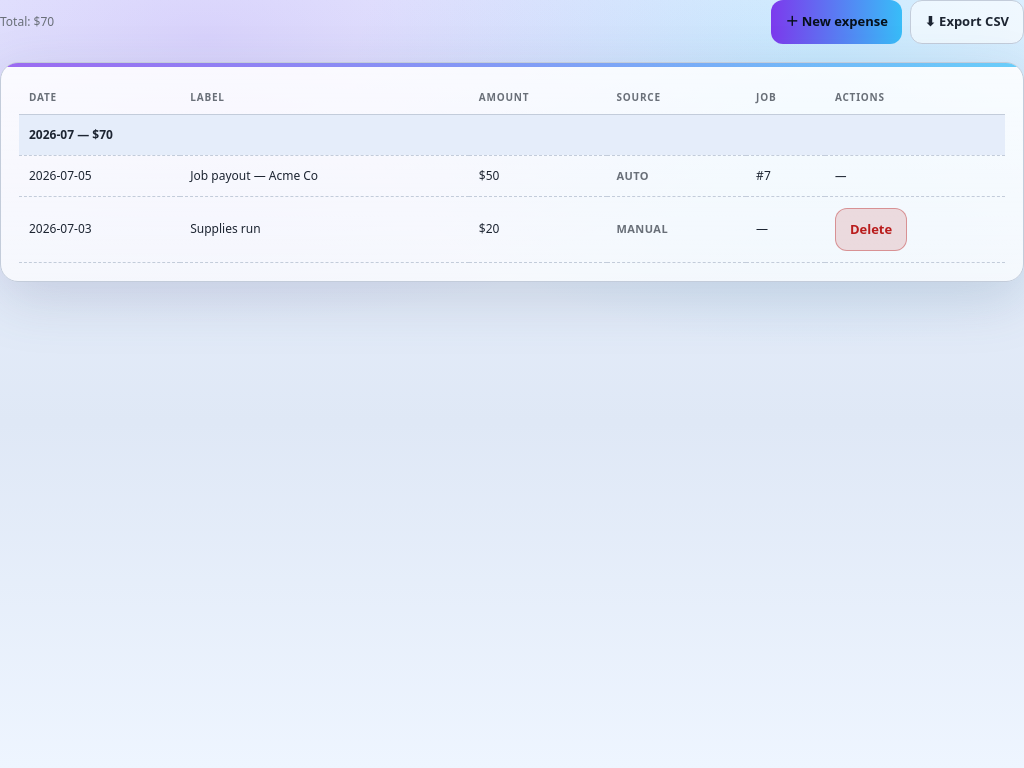
ExpensesSection › submits the add form via the addExpense server action, resets it, and closes the dialog on success
Click the button "＋ New expense" at (837, 22), box [771,0,902,44]
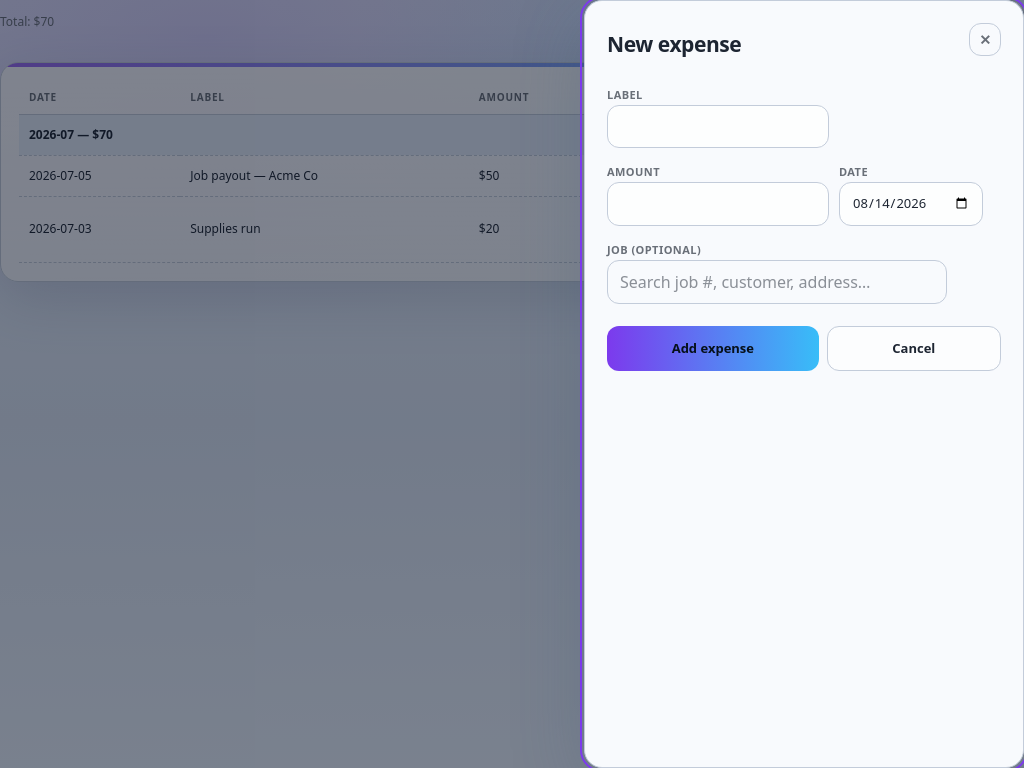
Type "Gas" into the field labelled "Label" at (718, 126), box [607,104,829,148]
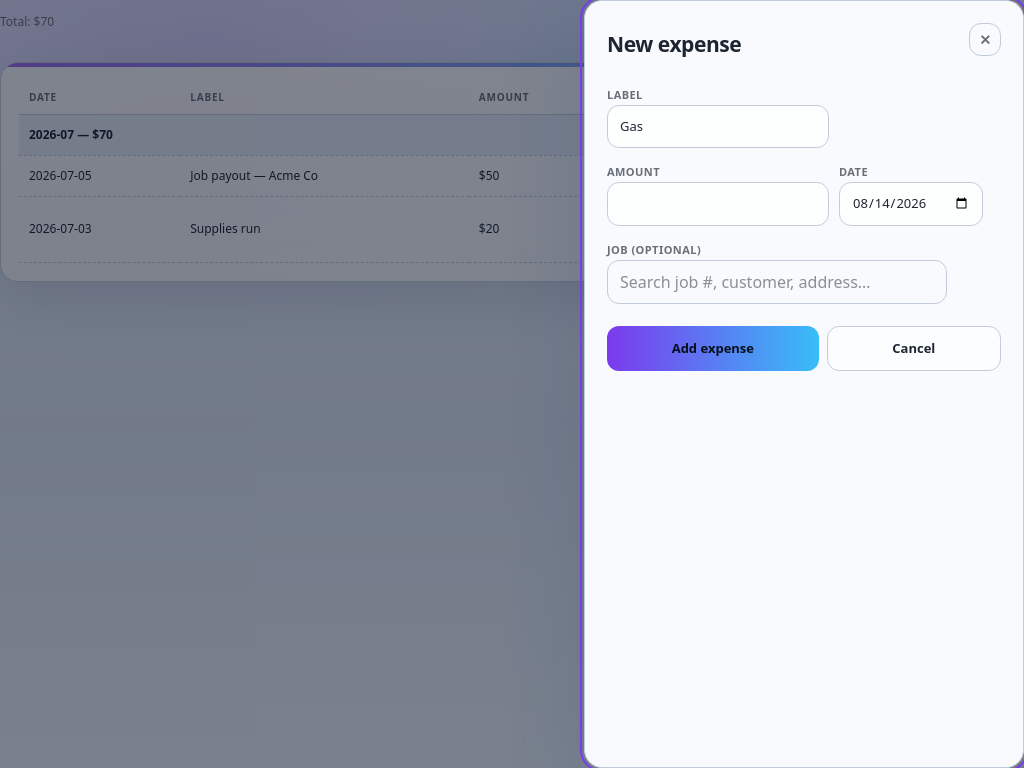
Type "12.50" into the number field labelled "Amount" at (718, 204), box [607,182,829,226]
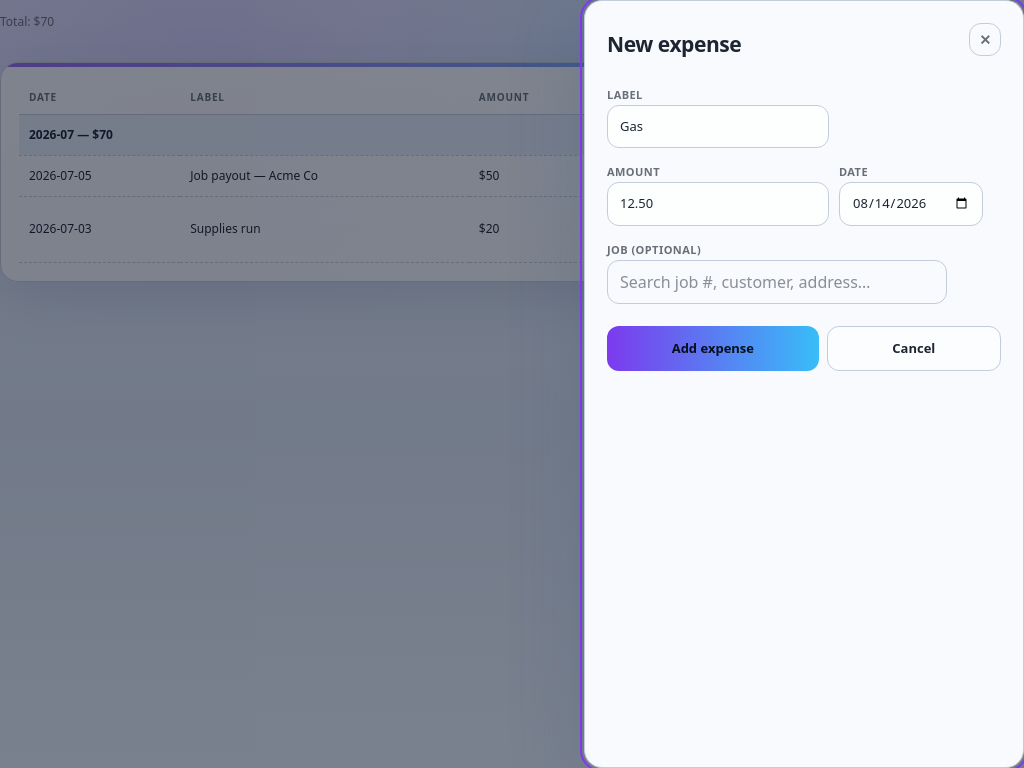
Click the button "Add expense" at (713, 348), box [607,326,819,371]
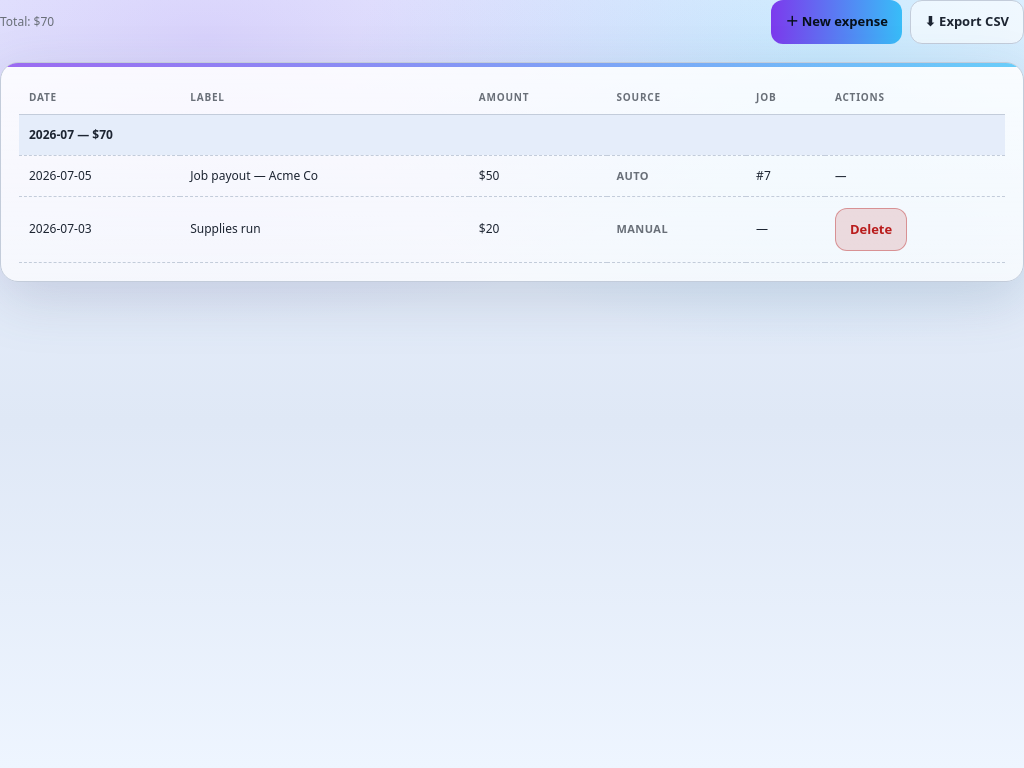
Check: the dialog is gone
